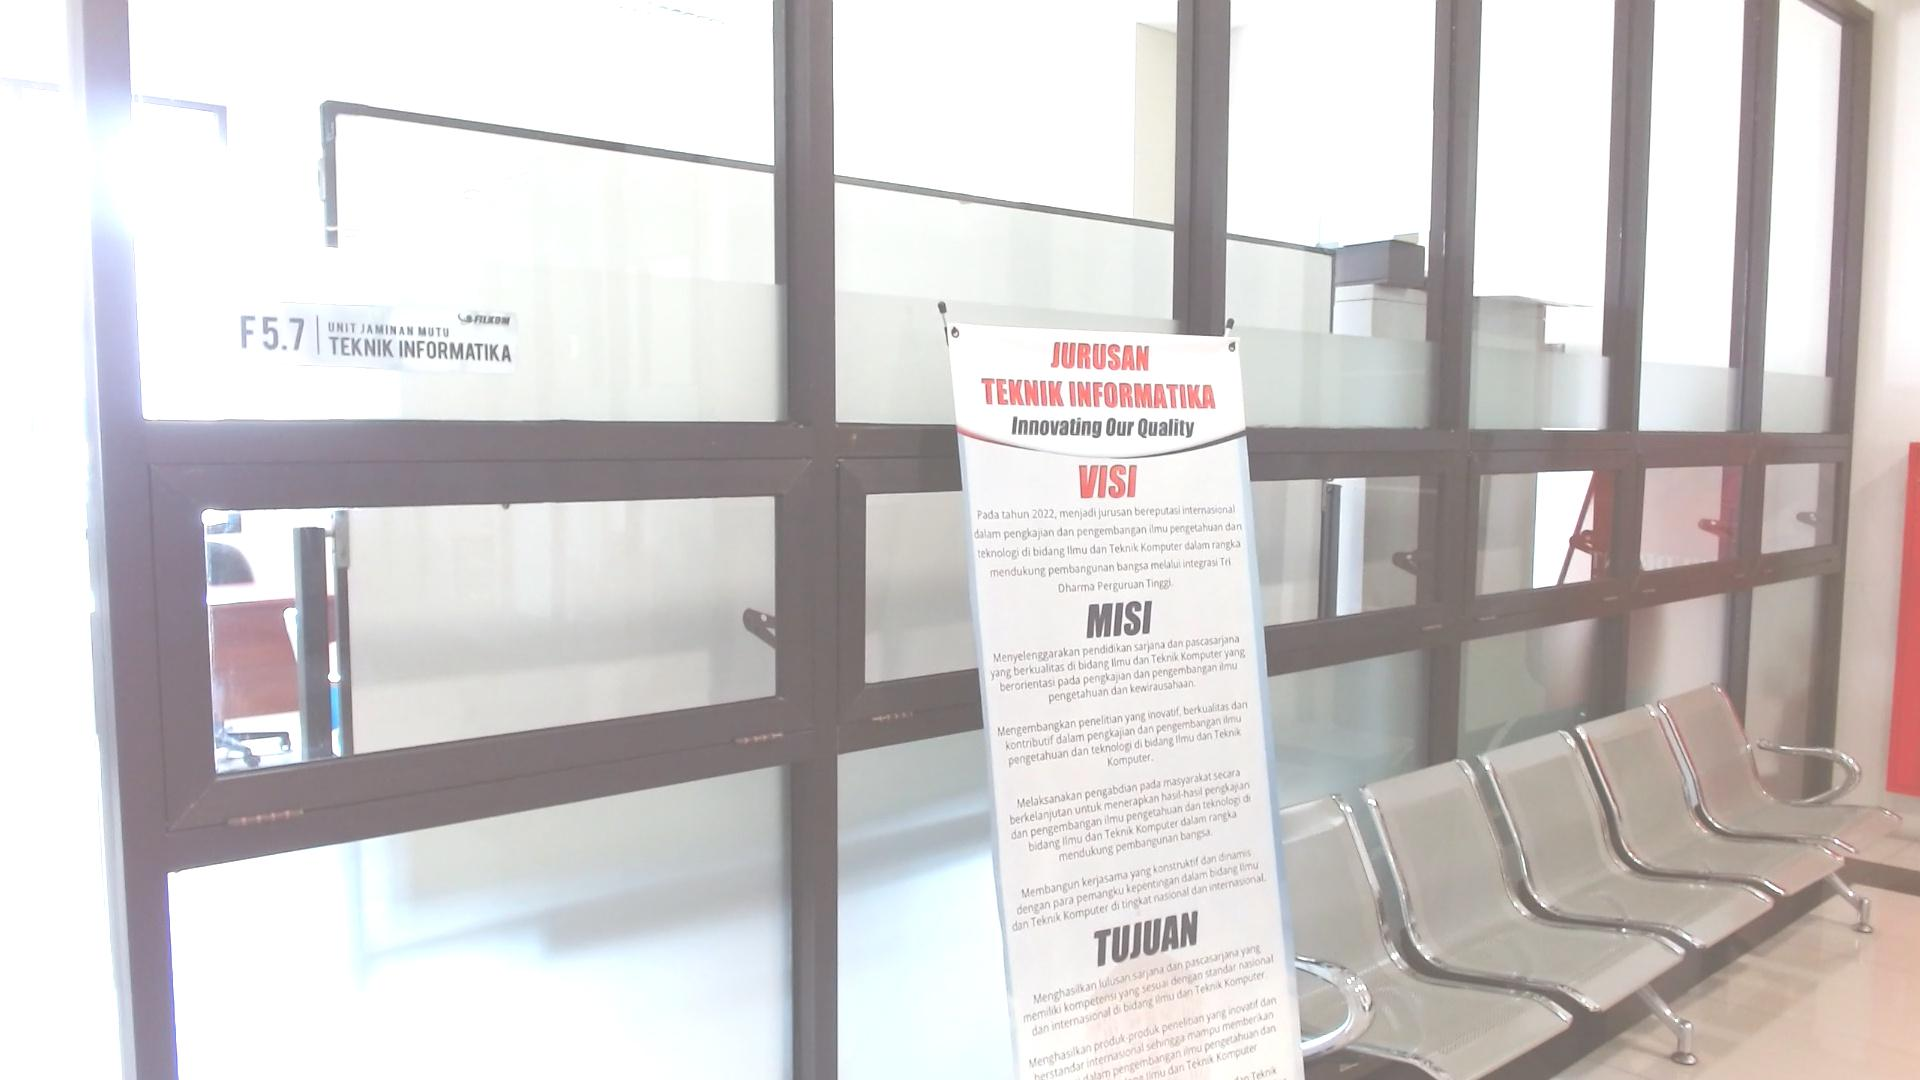plate: (229, 298, 516, 373)
